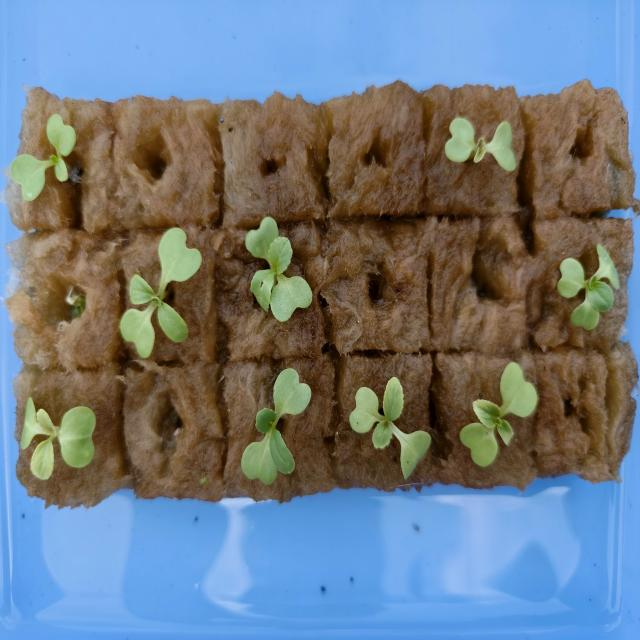daun-pakcoy: (158, 228, 202, 294), (58, 406, 96, 467), (272, 369, 311, 426), (10, 154, 54, 201), (392, 426, 431, 479), (120, 303, 157, 358), (500, 362, 537, 417), (241, 432, 278, 484), (460, 422, 498, 466), (349, 387, 383, 433), (278, 276, 312, 321), (445, 117, 478, 162), (245, 216, 278, 259), (487, 122, 515, 170), (46, 114, 76, 156), (158, 302, 188, 342), (594, 244, 619, 289), (557, 258, 585, 298), (270, 429, 295, 473), (250, 269, 276, 311), (31, 436, 54, 480), (20, 397, 39, 449), (585, 275, 611, 312), (571, 297, 599, 330), (383, 377, 403, 421), (128, 274, 156, 305), (269, 237, 292, 274), (473, 399, 500, 428), (372, 419, 394, 449), (492, 415, 513, 446), (34, 409, 56, 436), (255, 408, 276, 433), (50, 155, 68, 182)
